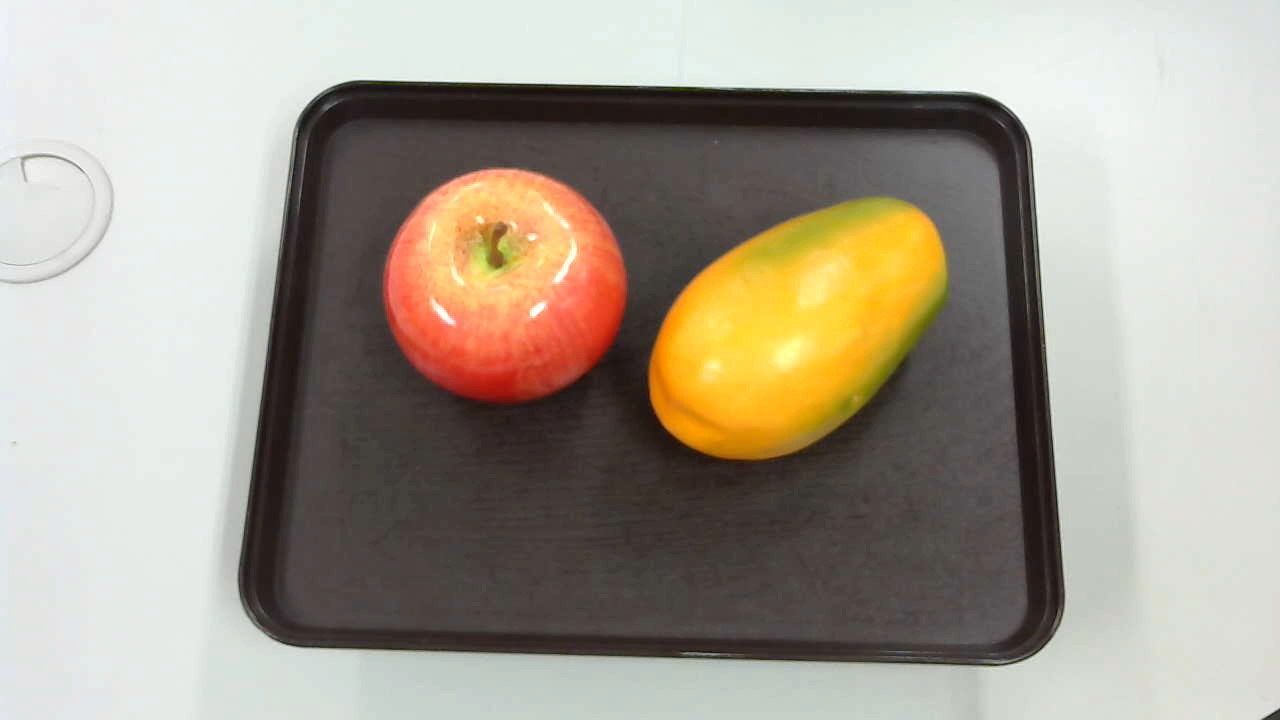papya: (640, 190, 959, 465)
red apple: (376, 164, 625, 407)
